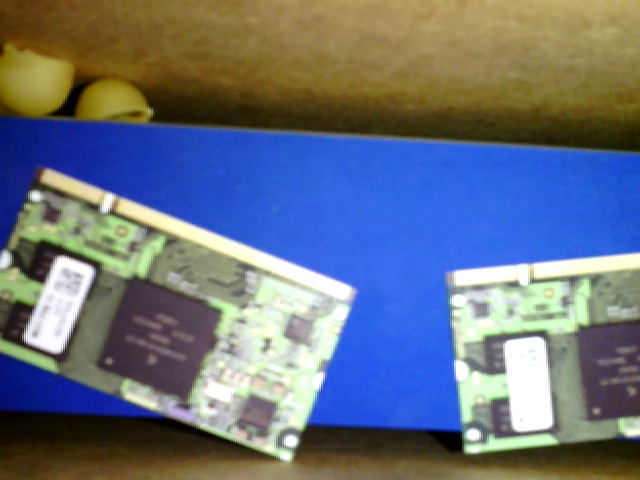shell: (1, 42, 75, 116), (74, 78, 153, 122)
